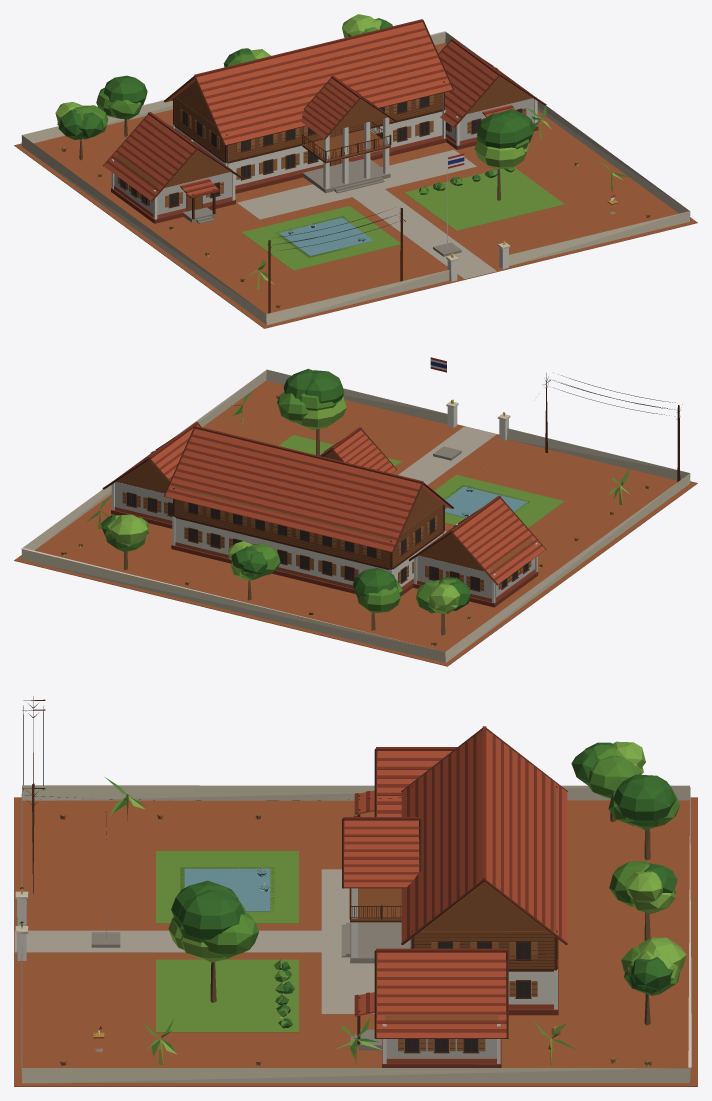
File: ruler_house.glb
The picture shows the model from 3 angles, top to bottom: view 1: azimuth 30°, elevation 25°; view 2: azimuth 150°, elevation 25°; view 3: azimuth 270°, elevation 25°; orthographic projection. The views are drawn at different scales.
Parts seen in each view (by area): view 1: body, windows; view 2: body, windows; view 3: body, windows.
Part boxes in pixels (<box>): body: <box>14,14,697,328</box>; windows: <box>120,96,521,257</box>; body: <box>14,357,697,666</box>; windows: <box>127,399,528,589</box>; body: <box>14,696,697,1086</box>; windows: <box>20,889,529,1051</box>.
Size of the model in its own units: 47.9 by 11.16 by 47.9.
